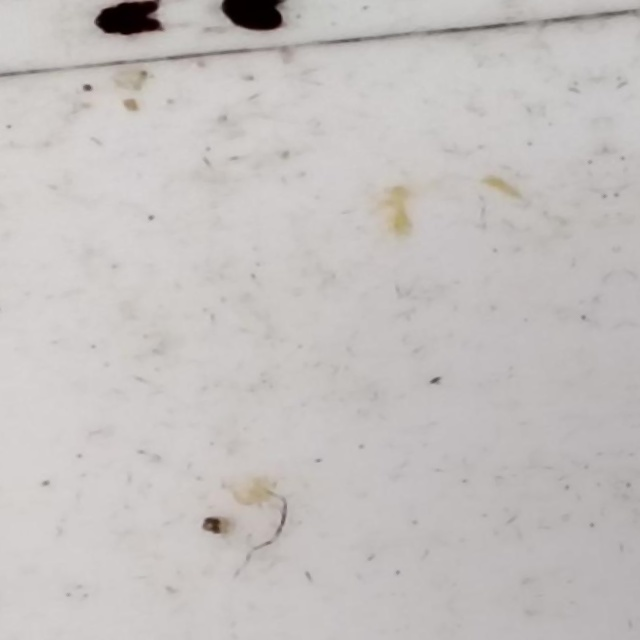varroa: (92, 15, 161, 39)
